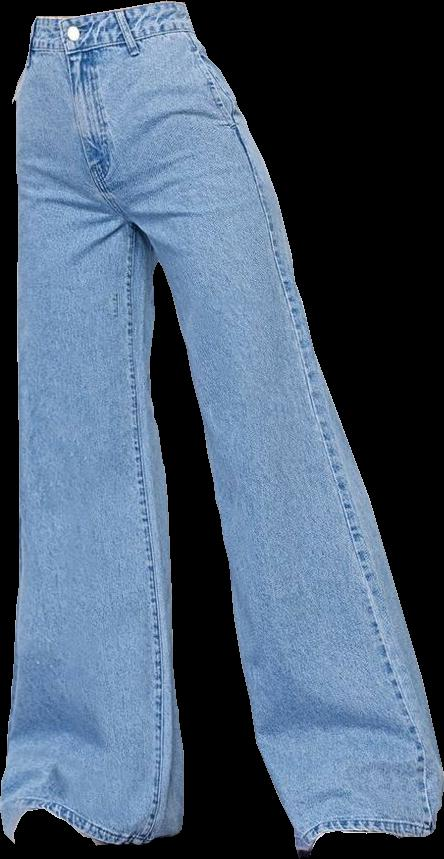Hemline: (5, 806, 183, 852), (299, 821, 437, 858)
Pantleg: (71, 5, 441, 850), (2, 17, 191, 843)
Waistline: (29, 20, 194, 59), (33, 0, 187, 26)
